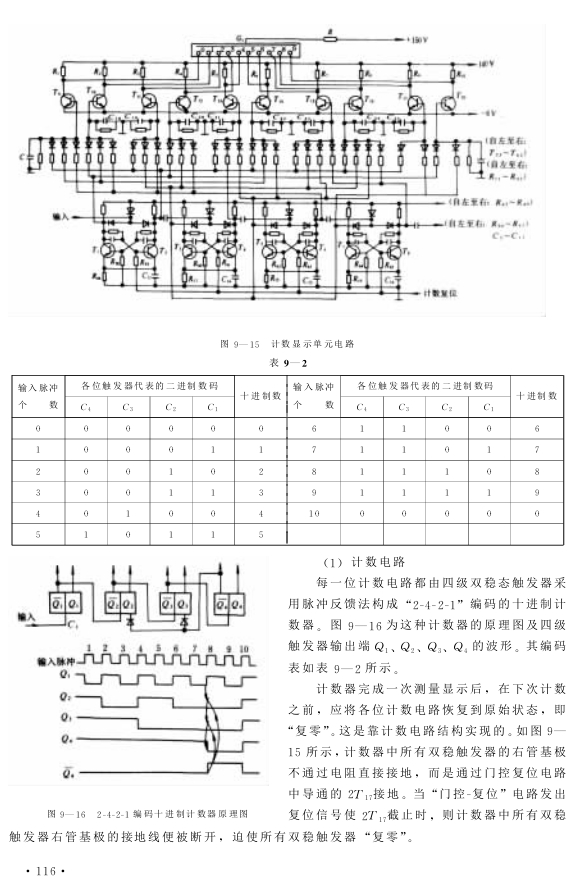table: (11, 374, 565, 546)
